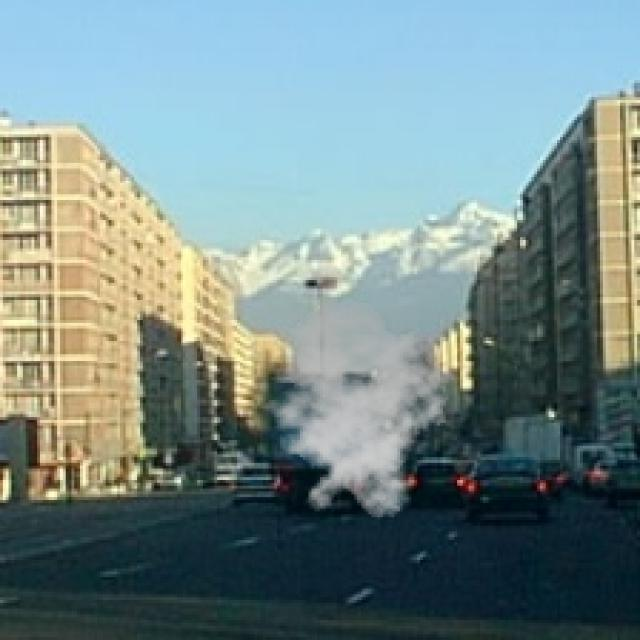Smoke: (252, 300, 459, 520)
